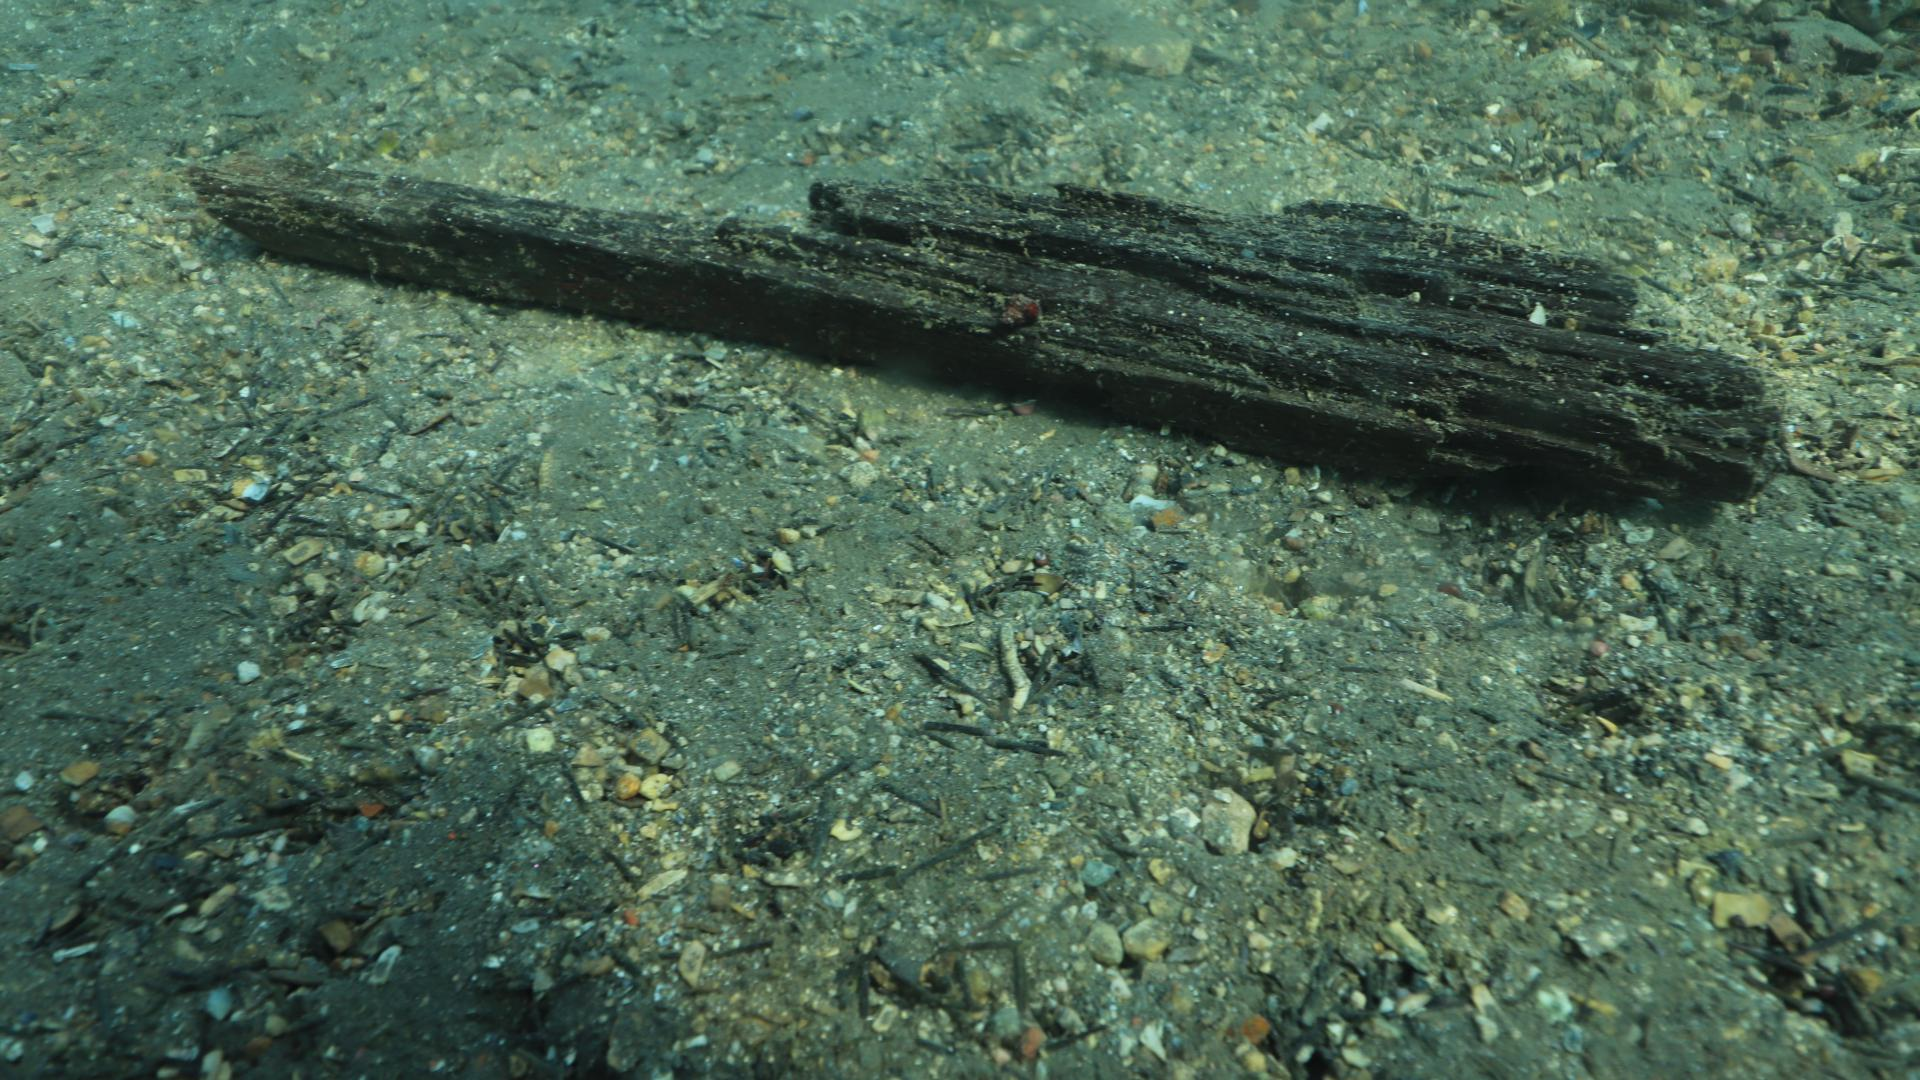wood: (185, 149, 1793, 504)
